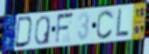3: (77, 12, 91, 42)
C: (95, 9, 115, 40)
D: (14, 16, 34, 49)
F: (54, 11, 75, 46)
L: (115, 8, 130, 38)
Q: (34, 15, 51, 46)
